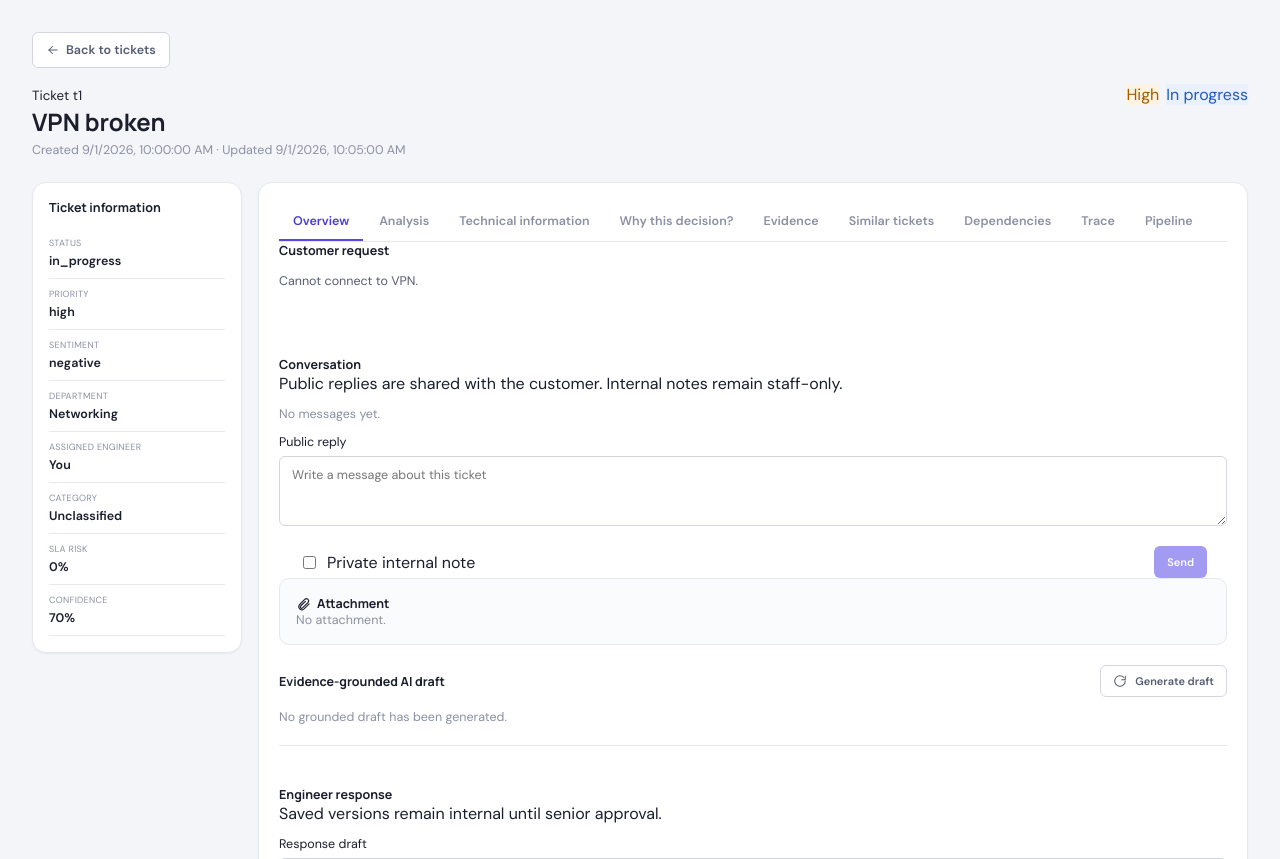
Test case: engineer response workflow › shows real dependency-graph edges with confirmed/inferred badges
Click the tab "Dependencies": click(1008, 222) [950,203,1065,241]
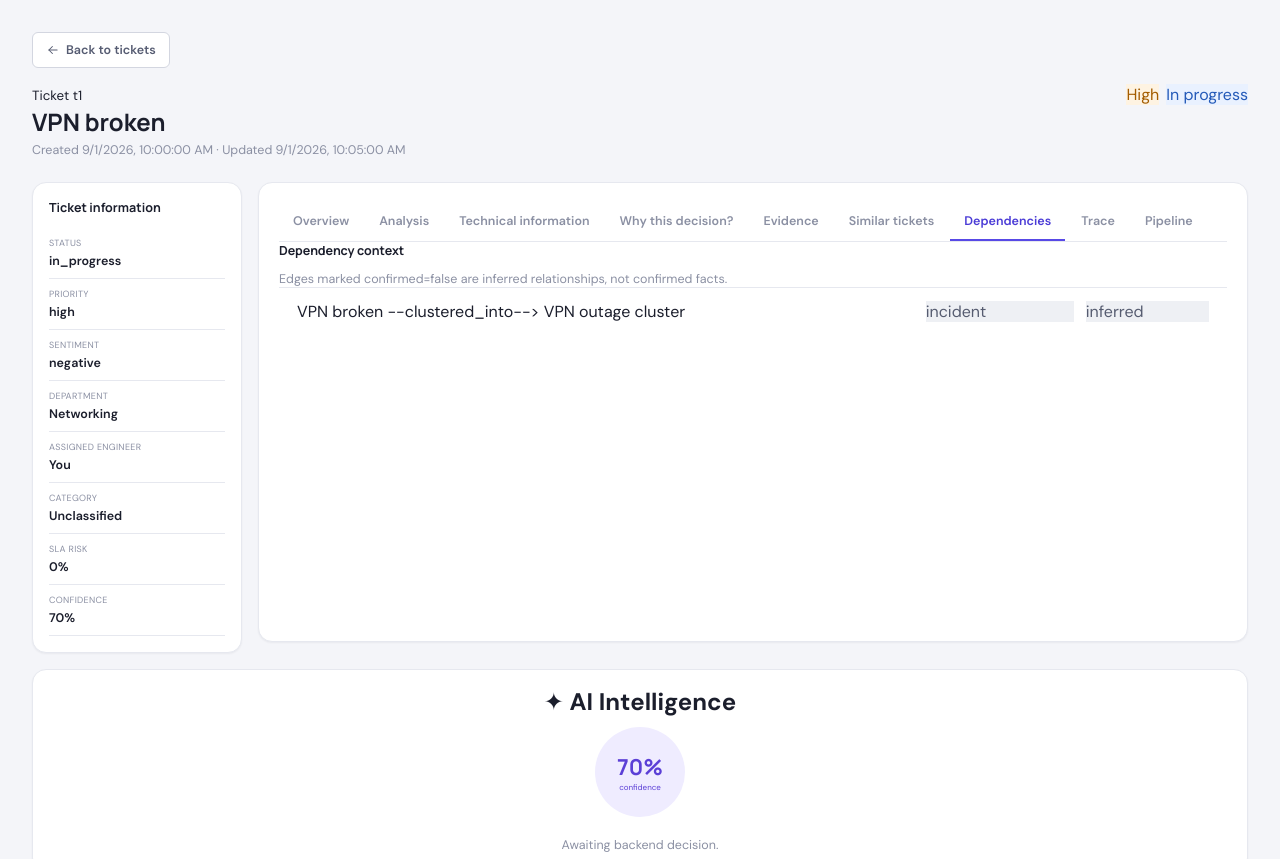
Expected: the text "VPN broken --clustered_into--> VPN outage cluster" is shown, [297,301,685,322]
Expected: the text "inferred" is shown, [1086,301,1209,322]
Expected: the text "Edges marked confirmed=false are inferred" is shown, [279,271,727,287]
